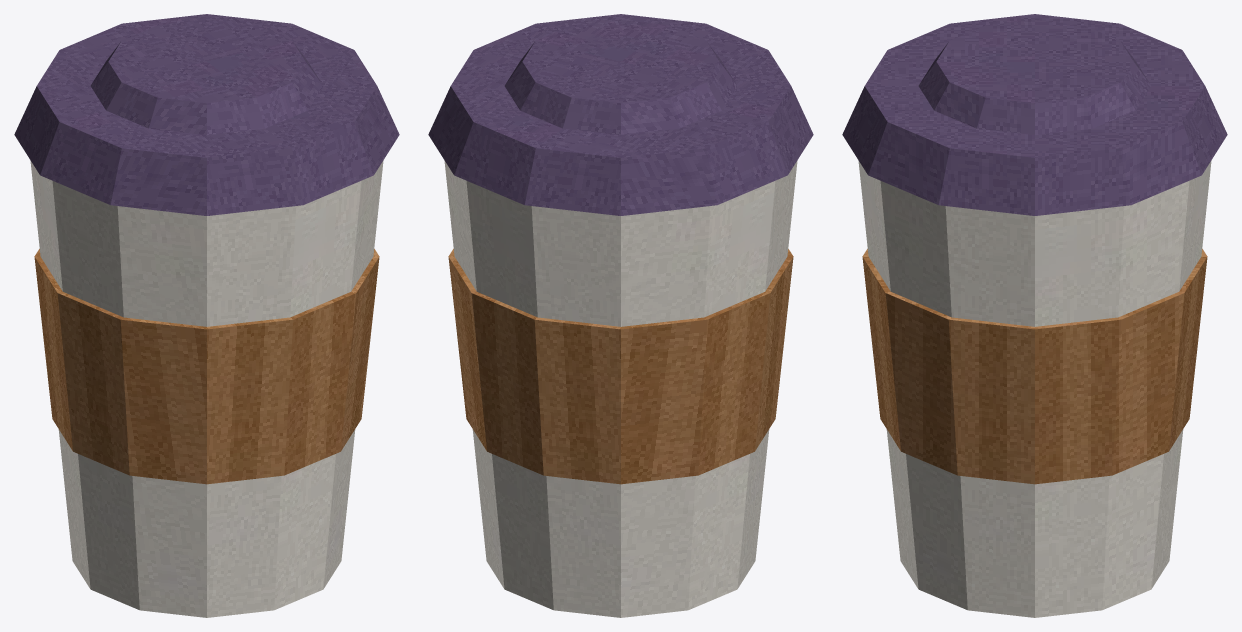
The picture shows the model from 3 angles, left to right: view 1: azimuth 30°, elevation 25°; view 2: azimuth 150°, elevation 25°; view 3: azimuth 270°, elevation 25°; orthographic projection.
Parts seen in each view (by area): view 1: coffee; view 2: coffee; view 3: coffee.
Boxes of the visible parts, x1,y1,x2,y2 form: coffee: (14,14,399,617); coffee: (428,14,813,617); coffee: (842,14,1227,617).
Size of the model in its own units: 0.086 by 0.123 by 0.086.
3 materials, 3 textured.
